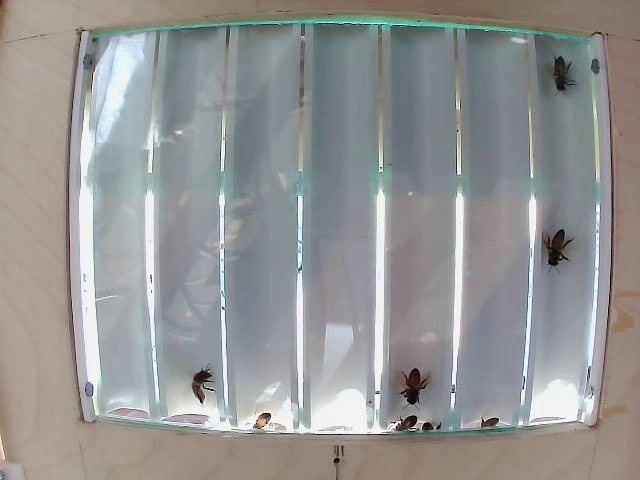bee: (192, 367, 237, 411), (545, 56, 578, 104), (533, 223, 567, 268), (397, 368, 431, 406)
